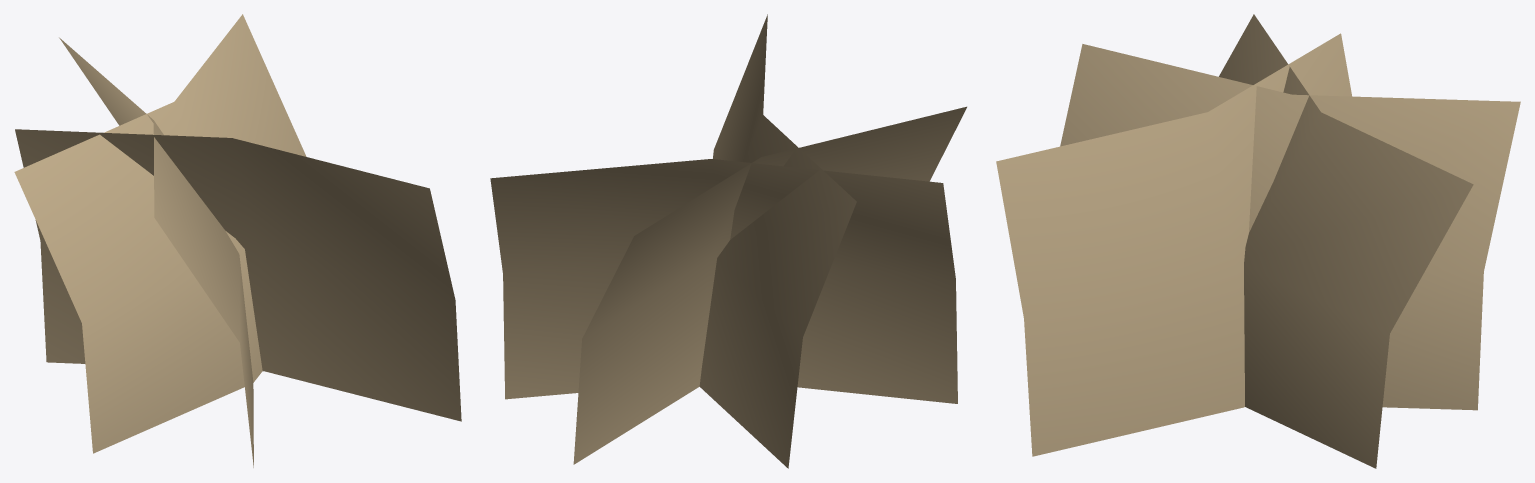
The model's file is GrassPlanes_b_TwoS_07.fbx.
3 renders of one model, left to right at view 1: azimuth 30°, elevation 25°; view 2: azimuth 150°, elevation 25°; view 3: azimuth 270°, elevation 25°, orthographic. The views are drawn at different scales.
Visible parts, largest first — view 1: GrassPlanes_b_TwoS_07; view 2: GrassPlanes_b_TwoS_07; view 3: GrassPlanes_b_TwoS_07.
Boxes of the visible parts, x1,y1,x2,y2 form: GrassPlanes_b_TwoS_07: (14,14,461,467); GrassPlanes_b_TwoS_07: (490,14,966,468); GrassPlanes_b_TwoS_07: (996,14,1520,468).
Size of the model in its own units: 87.36 by 58.9 by 104.
